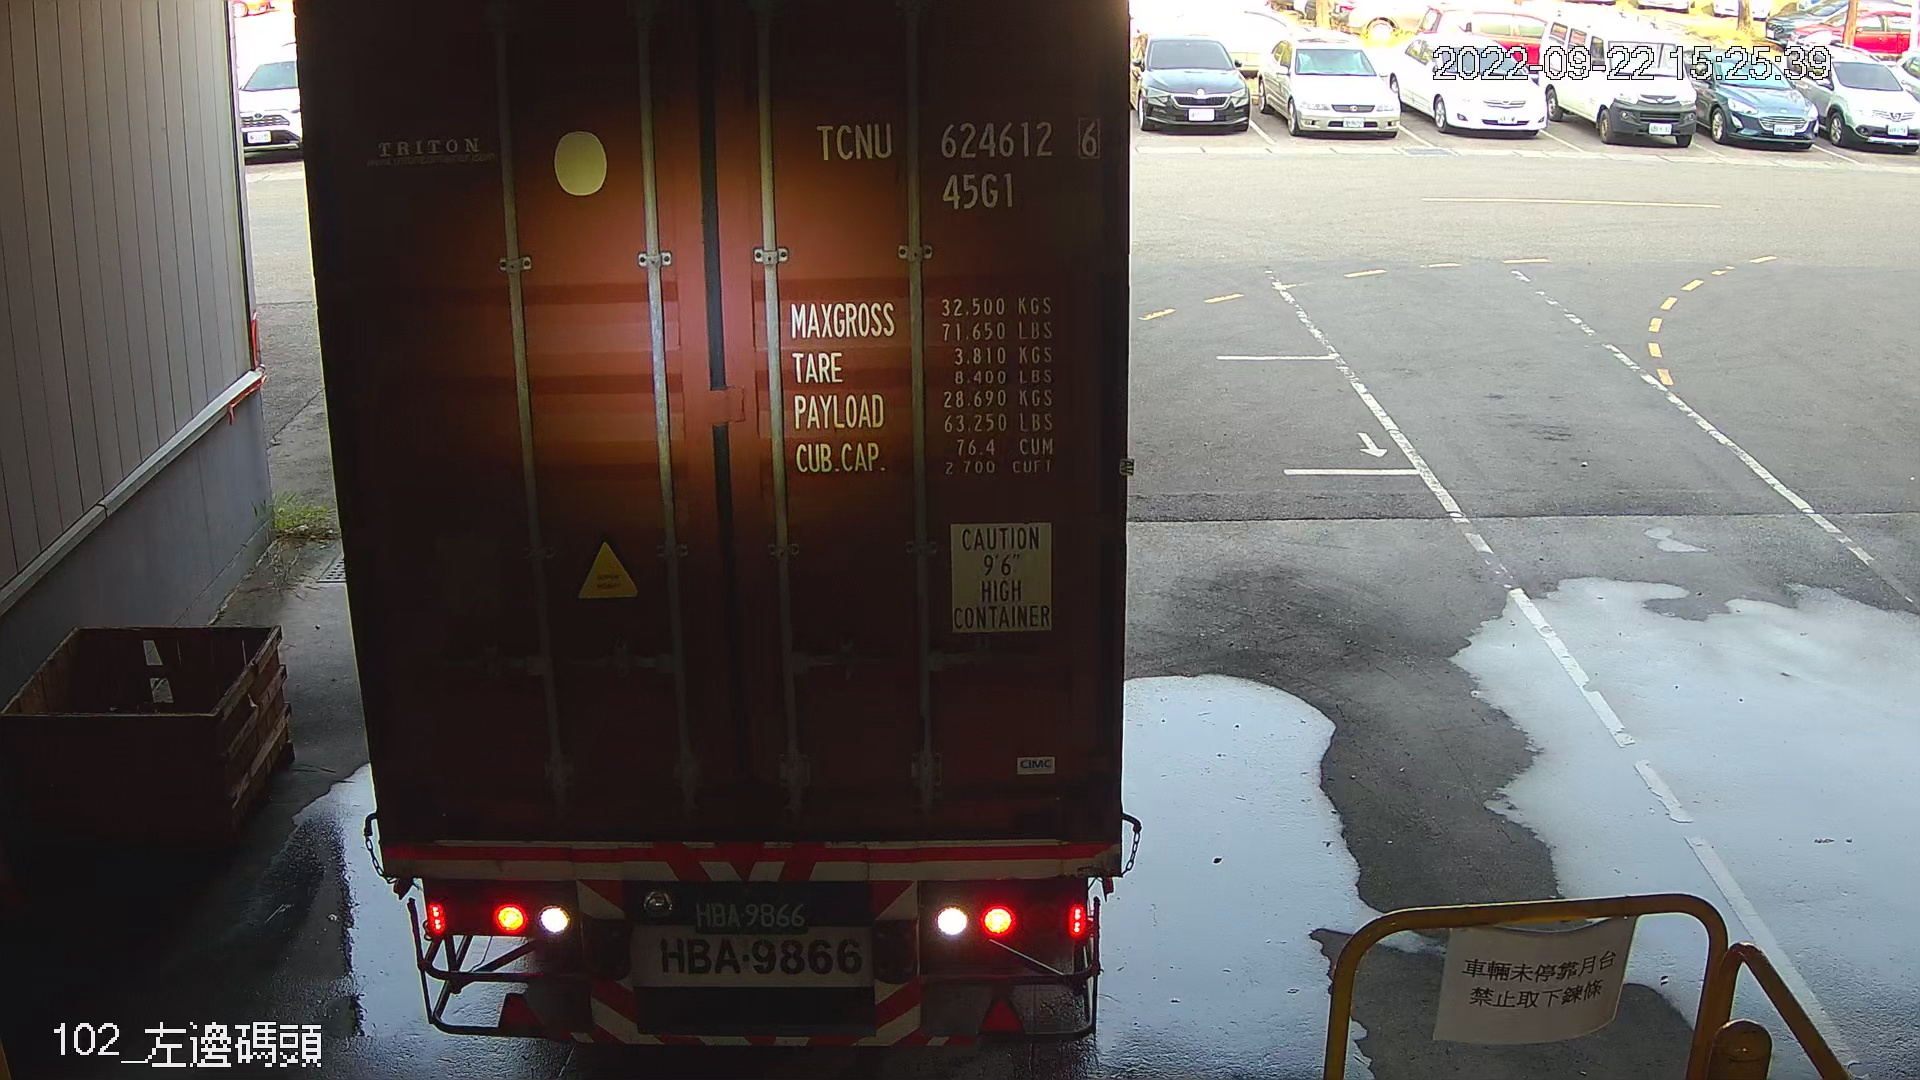container: (800, 99, 1112, 235)
